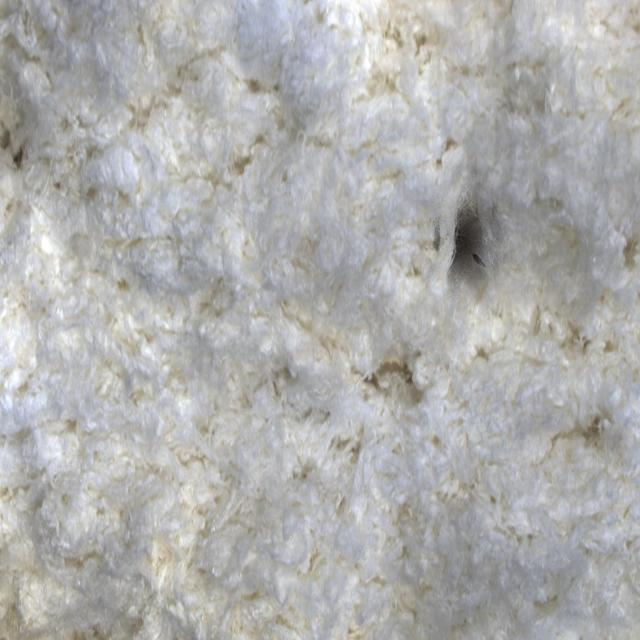dust: (411, 161, 535, 316)
